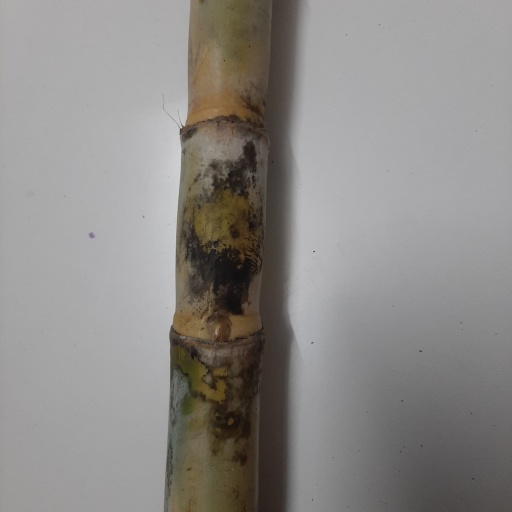Bud: (208, 316, 230, 342)
